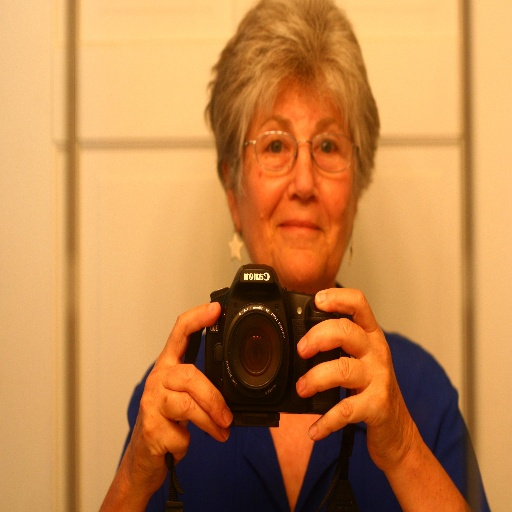hand: (293, 286, 413, 473), (126, 297, 233, 492)
